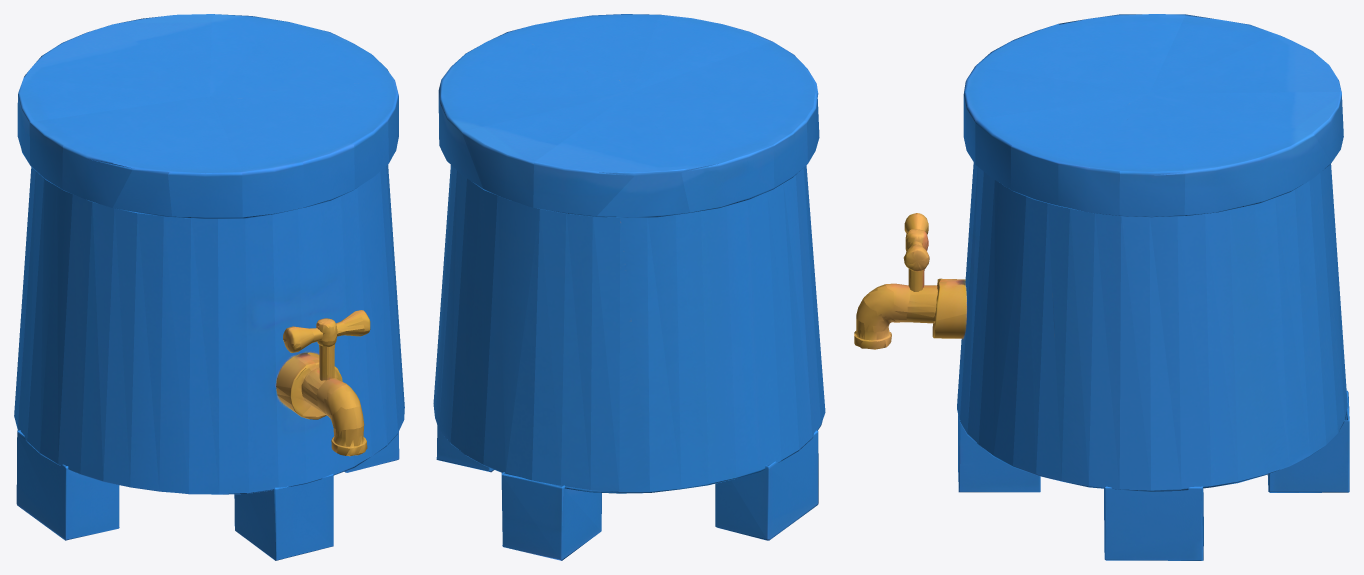
The model's file is waterTank.glb.
3 renders of one model, left to right at view 1: azimuth 30°, elevation 25°; view 2: azimuth 150°, elevation 25°; view 3: azimuth 270°, elevation 25°, orthographic.
Bounding box in the file's own units: 0.7891 × 0.8652 × 1.
Materials: 1 (1 with a texture image).
